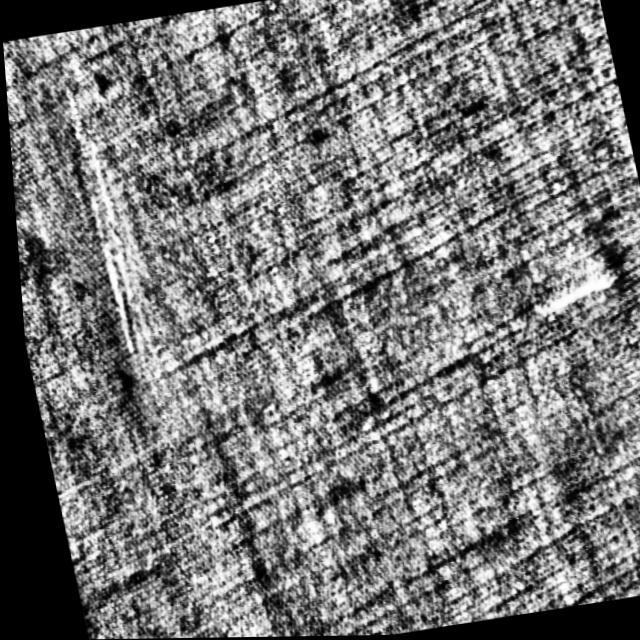Stitch: (55, 69, 152, 361), (517, 256, 634, 332)
